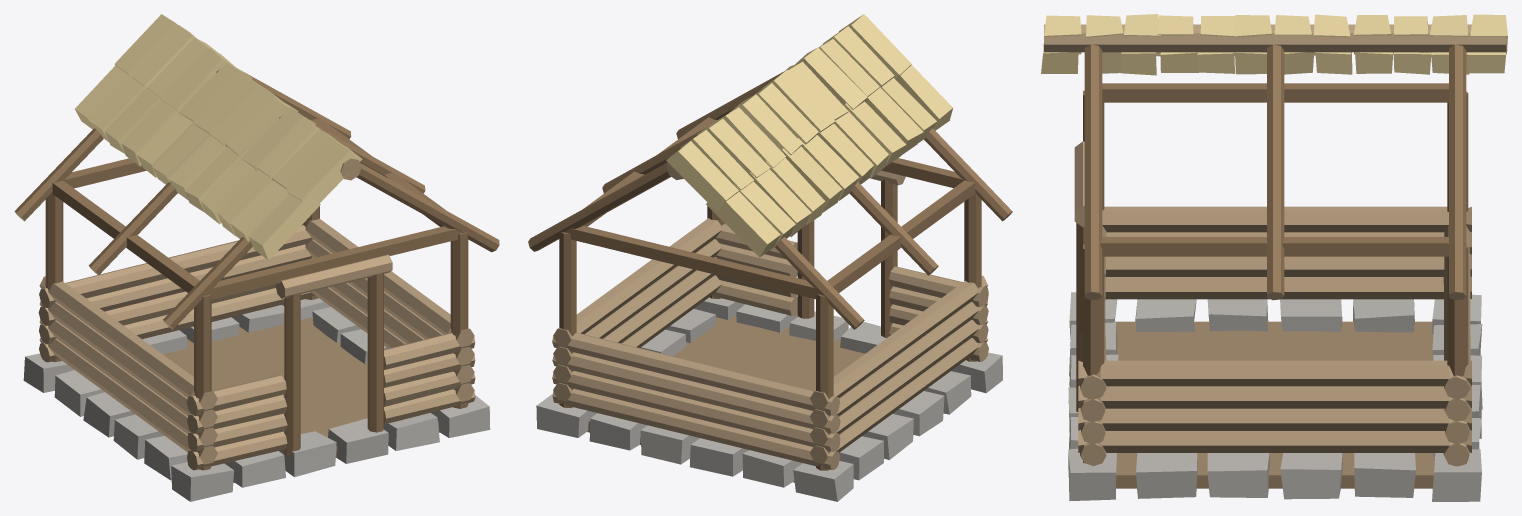
The model's file is building_workshop_shed_half.glb.
3 views of the same model, side by side, from view 1: azimuth 30°, elevation 25°; view 2: azimuth 150°, elevation 25°; view 3: azimuth 270°, elevation 25° (orthographic). The views are drawn at different scales.
Visible parts, largest first — view 1: building_workshop_shed_half; view 2: building_workshop_shed_half; view 3: building_workshop_shed_half.
Part boxes in pixels (box(x1,y1,x2,y2)): building_workshop_shed_half: box(14, 14, 499, 501); building_workshop_shed_half: box(528, 14, 1012, 501); building_workshop_shed_half: box(1041, 14, 1507, 501).
Bounding box in the file's own units: 3.85 × 3.56 × 3.8.
